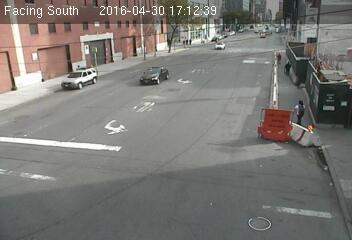neg: (62, 54, 81, 79), (68, 104, 84, 124), (35, 147, 49, 166), (152, 71, 165, 88), (240, 139, 253, 155), (122, 90, 134, 107), (93, 173, 105, 188), (90, 49, 101, 63), (135, 137, 145, 150), (20, 82, 29, 94), (202, 134, 211, 145), (117, 36, 125, 48), (44, 67, 52, 78), (200, 63, 208, 73), (170, 171, 177, 179), (236, 44, 239, 48)
pos: (289, 99, 309, 126), (281, 60, 293, 76), (274, 51, 284, 64), (186, 36, 193, 46), (184, 37, 190, 46)
